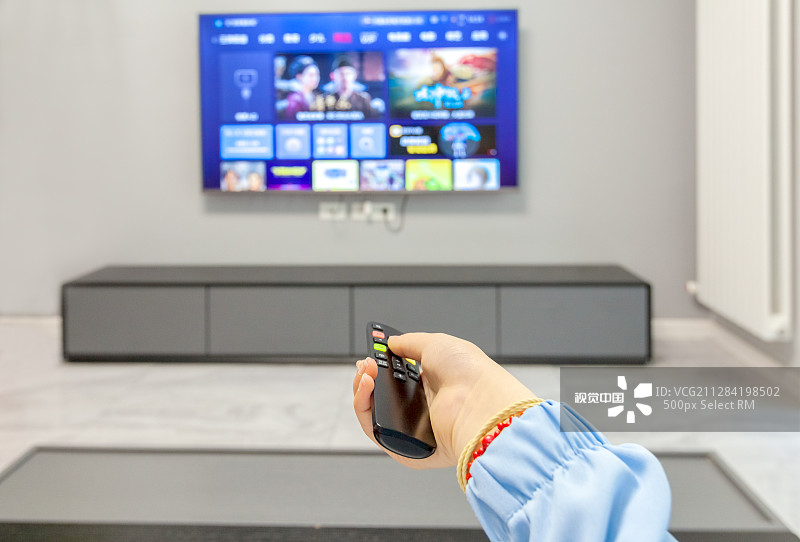no-phone: (334, 315, 532, 480)
